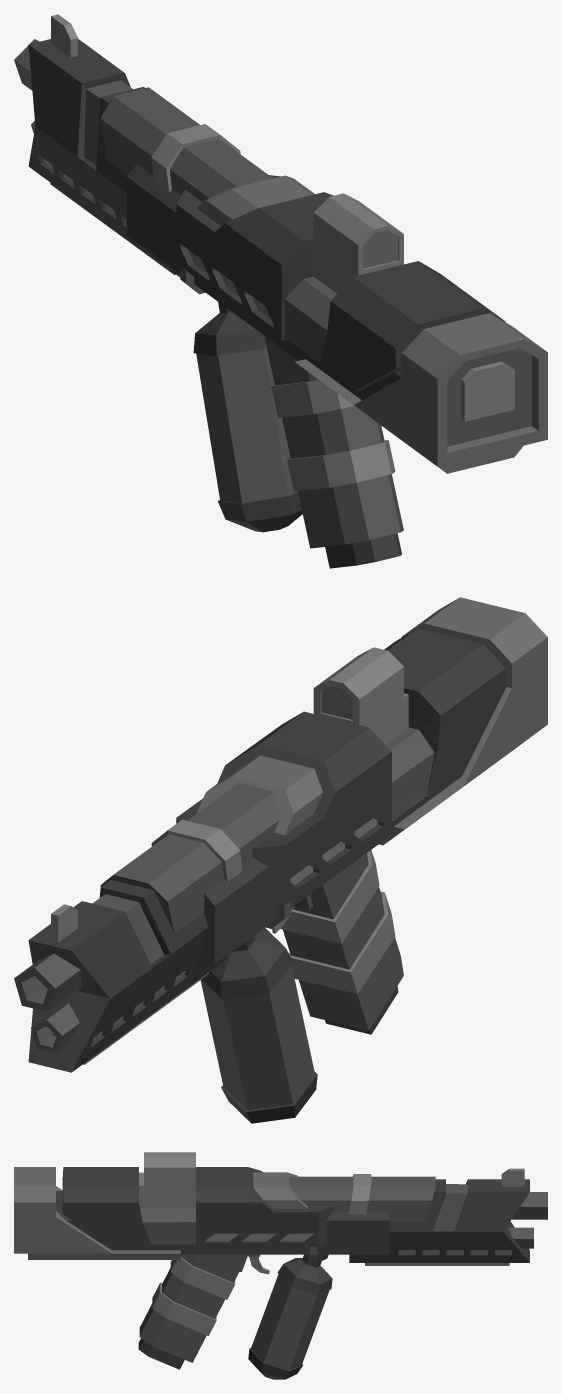
The model's file is flamethrower.glb.
3 views of the same model, one above another, from view 1: azimuth 30°, elevation 25°; view 2: azimuth 150°, elevation 25°; view 3: azimuth 270°, elevation 25° (orthographic). The views are drawn at different scales.
Visible parts, largest first — view 1: flamethrower, flamethrower_scope; view 2: flamethrower, flamethrower_scope; view 3: flamethrower, flamethrower_scope.
Boxes of the visible parts, left/top/right/bottom form: flamethrower: left=14, top=14, right=547, bottom=568; flamethrower_scope: left=313, top=193, right=403, bottom=293; flamethrower: left=14, top=597, right=547, bottom=1123; flamethrower_scope: left=313, top=647, right=408, bottom=744; flamethrower: left=14, top=1167, right=547, bottom=1379; flamethrower_scope: left=139, top=1152, right=195, bottom=1204.
Size of the model in its own units: 0.3488 by 1.16 by 2.51.
Materials: 1 (1 with a texture image).
